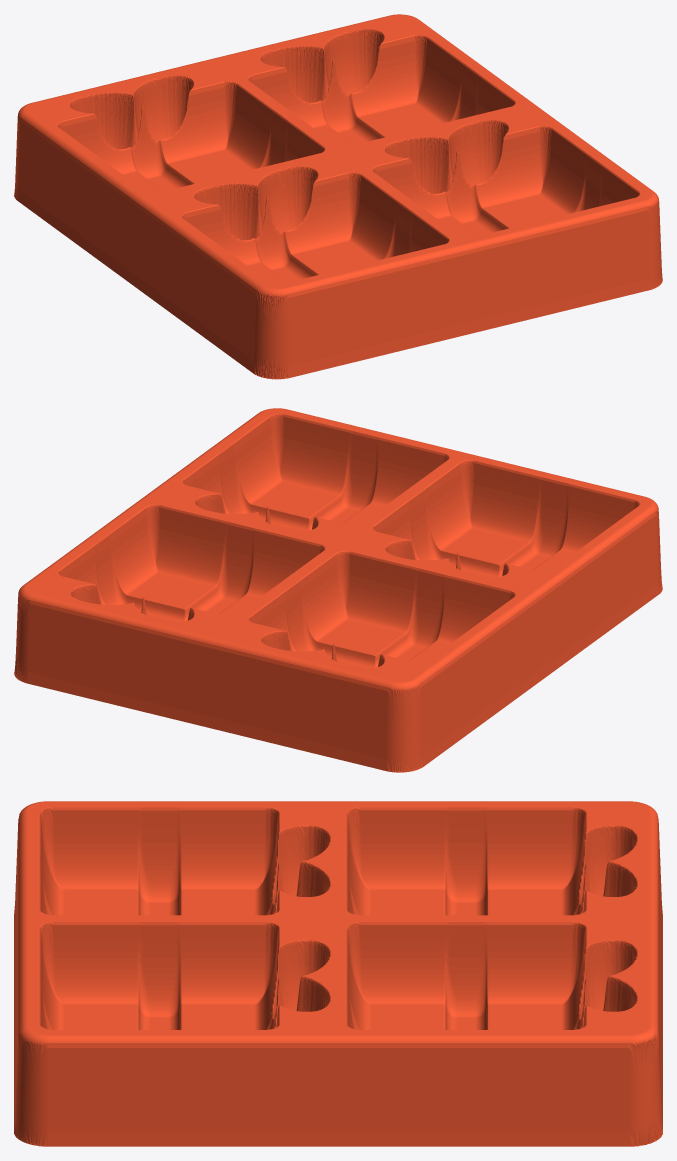
The model's file is mold.glb.
3 renders of one model, top to bottom at view 1: azimuth 30°, elevation 25°; view 2: azimuth 150°, elevation 25°; view 3: azimuth 270°, elevation 25°, orthographic. The views are drawn at different scales.
Visible parts, largest first — view 1: geometry_0; view 2: geometry_0; view 3: geometry_0.
Boxes of the visible parts, <box> form: geometry_0: <box>14,14,662,379</box>; geometry_0: <box>14,408,662,772</box>; geometry_0: <box>14,801,662,1146</box>.
Bounding box in the file's own units: 0.1534 × 0.031 × 0.1721.
